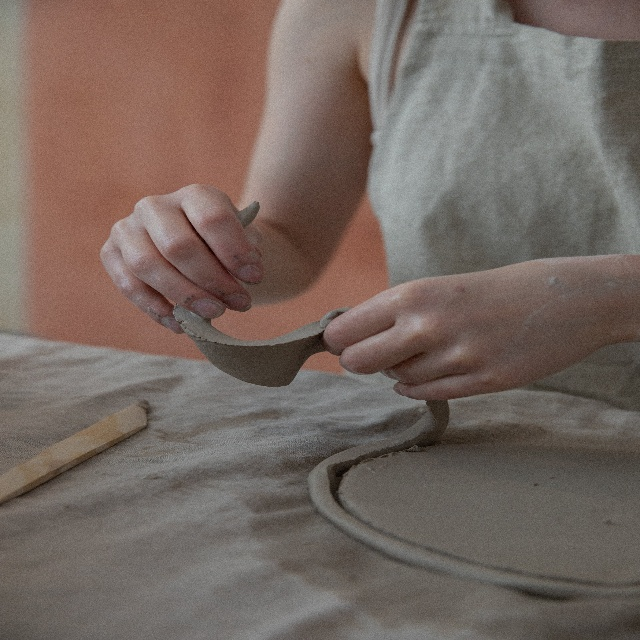Sin_guantes: (323, 262, 541, 403), (101, 179, 263, 336)
